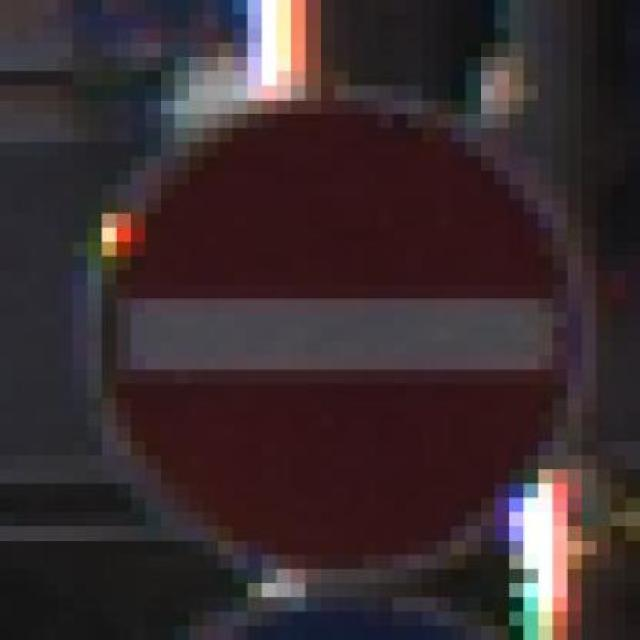B2: (100, 98, 578, 574)
